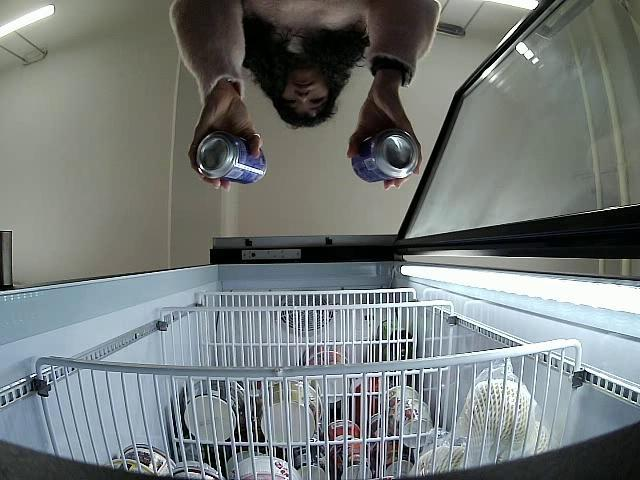14_welchsGrape: (351, 129, 420, 184), (197, 136, 268, 185)
